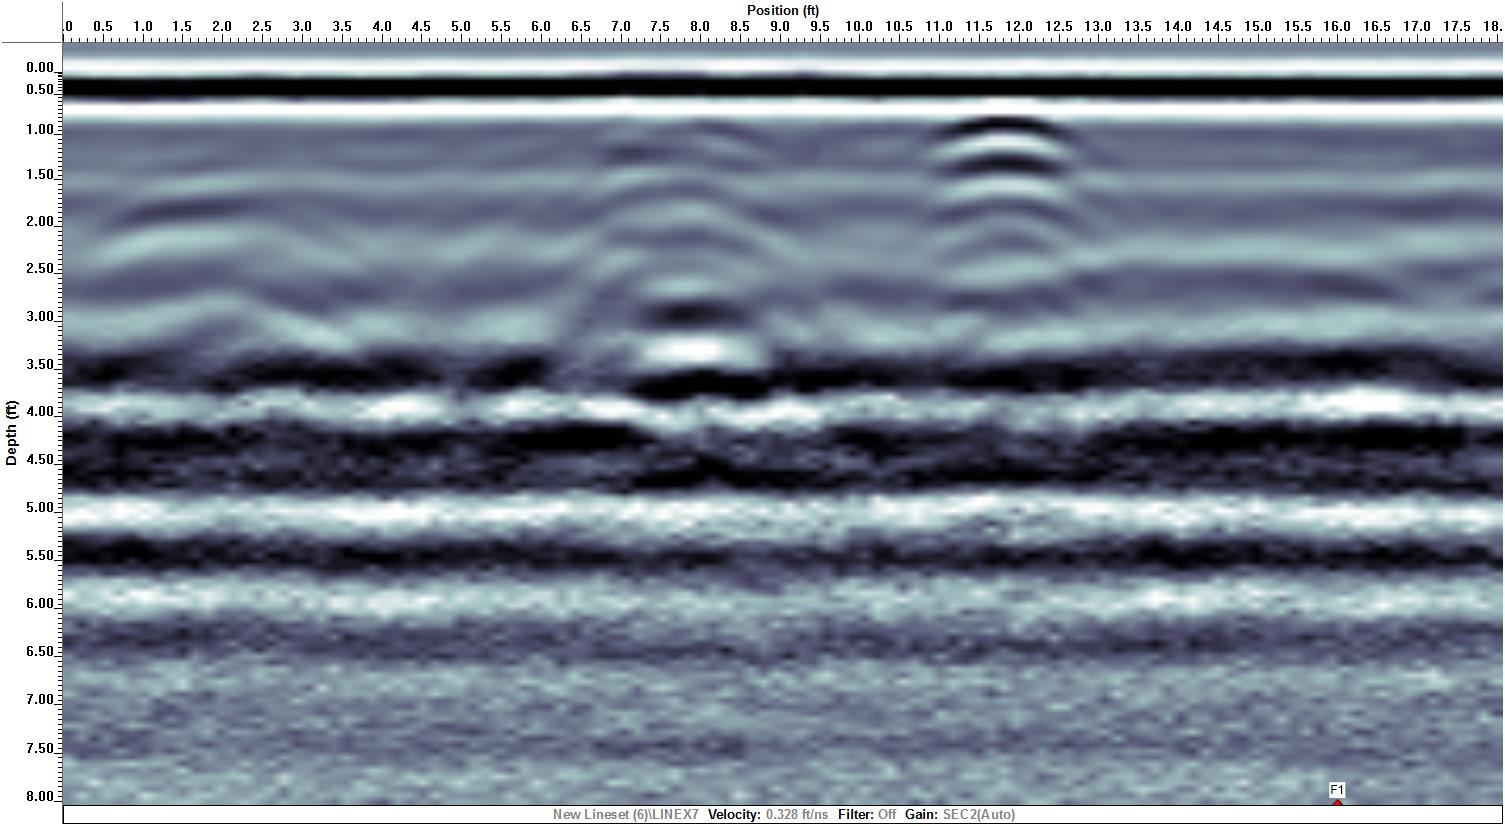hyperbola: (878, 117, 1121, 276)
